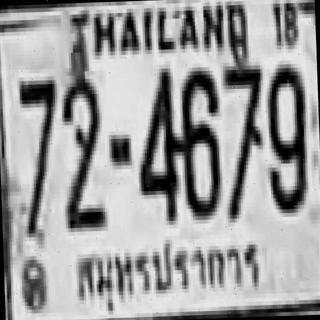N02: (59, 76, 104, 228)
N04: (134, 66, 181, 220)
N06: (180, 68, 223, 218)
N07: (220, 59, 265, 217), (17, 76, 59, 234)
N09: (265, 64, 308, 213)
P57: (66, 228, 266, 313)
